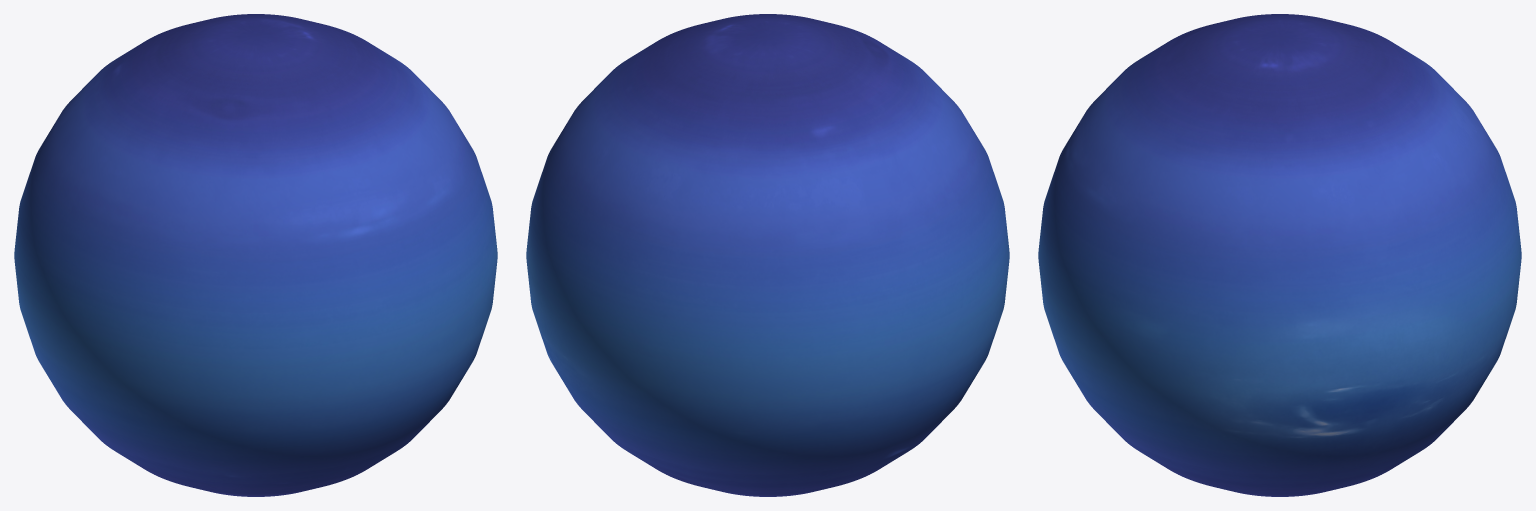
File: Neptune.fbx
The picture shows the model from 3 angles, left to right: view 1: azimuth 30°, elevation 25°; view 2: azimuth 150°, elevation 25°; view 3: azimuth 270°, elevation 25°; orthographic projection.
Visible parts, largest first — view 1: Sphere; view 2: Sphere; view 3: Sphere.
Boxes of the visible parts, x1,y1,x2,y2 form: Sphere: (14,14,497,496); Sphere: (526,14,1009,496); Sphere: (1038,14,1521,496).
Bounding box in the file's own units: 200 × 200 × 200.
Materials: 1 (1 with a texture image).
